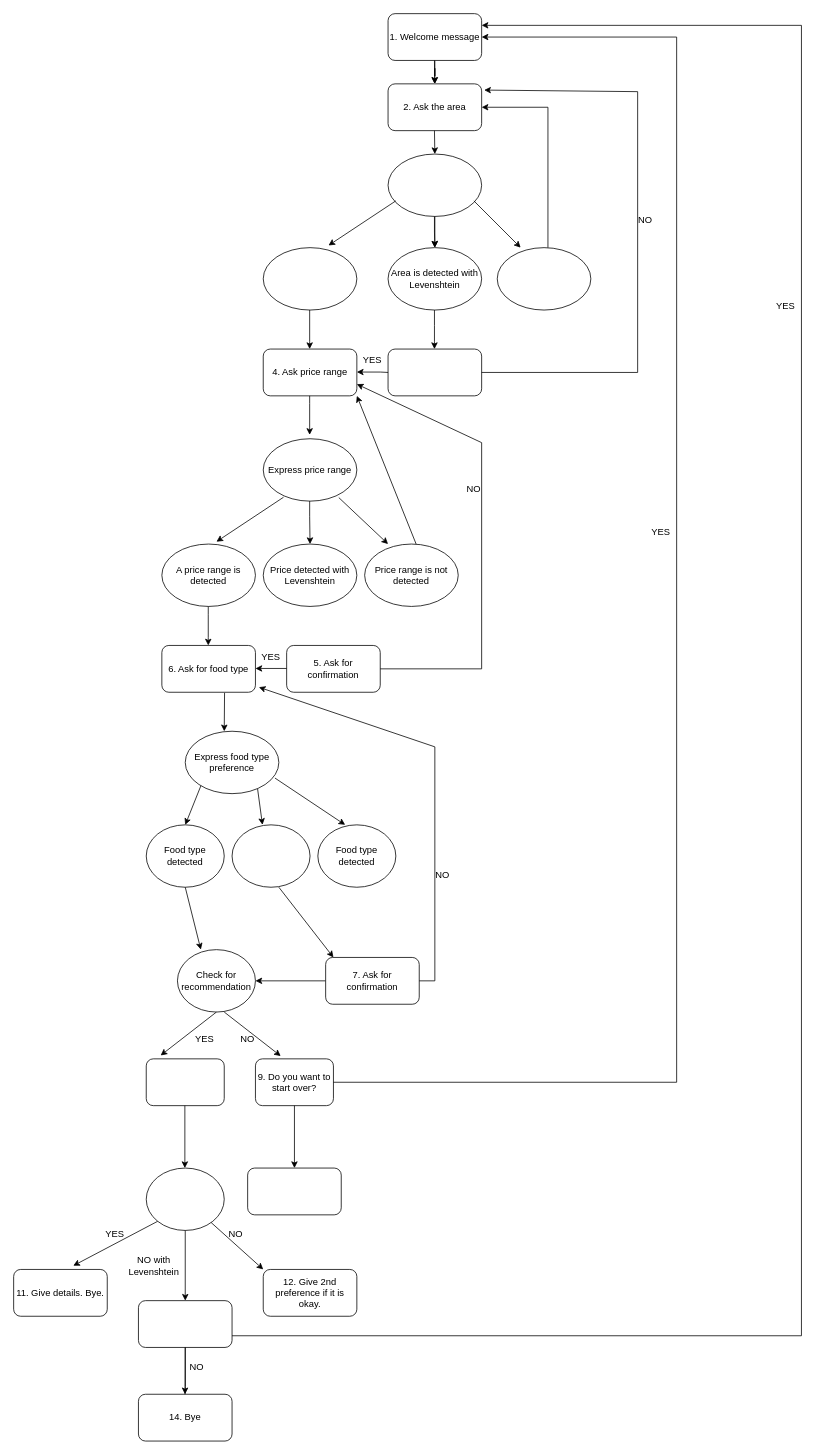
The diagram is 823 pixels wide and 1455 high, and some of its shapes have lost their labels. The box of each missing label's shape, as (x1, y1, x2, y2) in pixels:
10. Bye: (247, 1167, 341, 1215)
13. Give specific message. Do you want to start over?: (138, 1300, 232, 1347)
3. Ask for confirmation: (387, 348, 482, 396)
8. Give recommendation: (145, 1058, 224, 1106)
An area is said: (262, 247, 357, 310)
Area is not known: (496, 247, 591, 310)
Food type with Levenshtein: (231, 824, 310, 887)
Is it okay?: (145, 1167, 224, 1230)
User expresses preferences: (387, 153, 482, 216)
